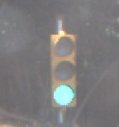Green: (47, 28, 78, 121)
